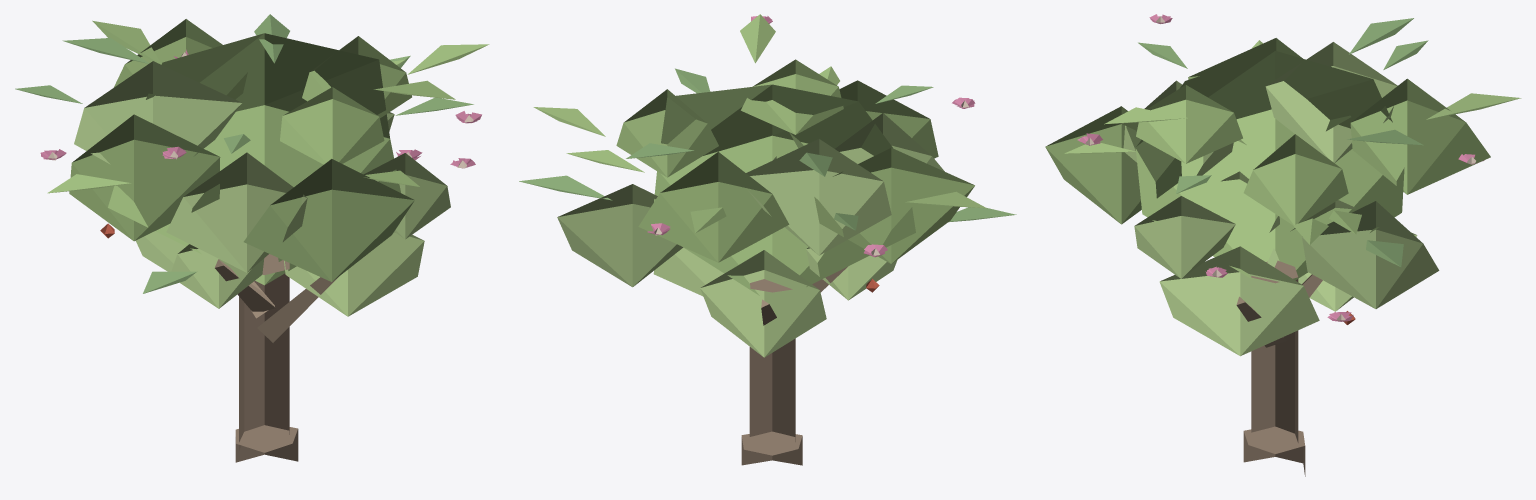
The model's file is shu.gaoshan__bloom.glb.
The picture shows the model from 3 angles, left to right: view 1: azimuth 30°, elevation 25°; view 2: azimuth 150°, elevation 25°; view 3: azimuth 270°, elevation 25°; orthographic projection. The views are drawn at different scales.
Parts seen in each view (by area): view 1: shu.gaoshan__bloom; view 2: shu.gaoshan__bloom; view 3: shu.gaoshan__bloom.
Part boxes in pixels (x1,y1,x2,y2): shu.gaoshan__bloom: (15,14,489,462); shu.gaoshan__bloom: (519,14,1016,465); shu.gaoshan__bloom: (1045,14,1521,476).
Bounding box in the file's own units: 15.44 × 13.09 × 14.14.
